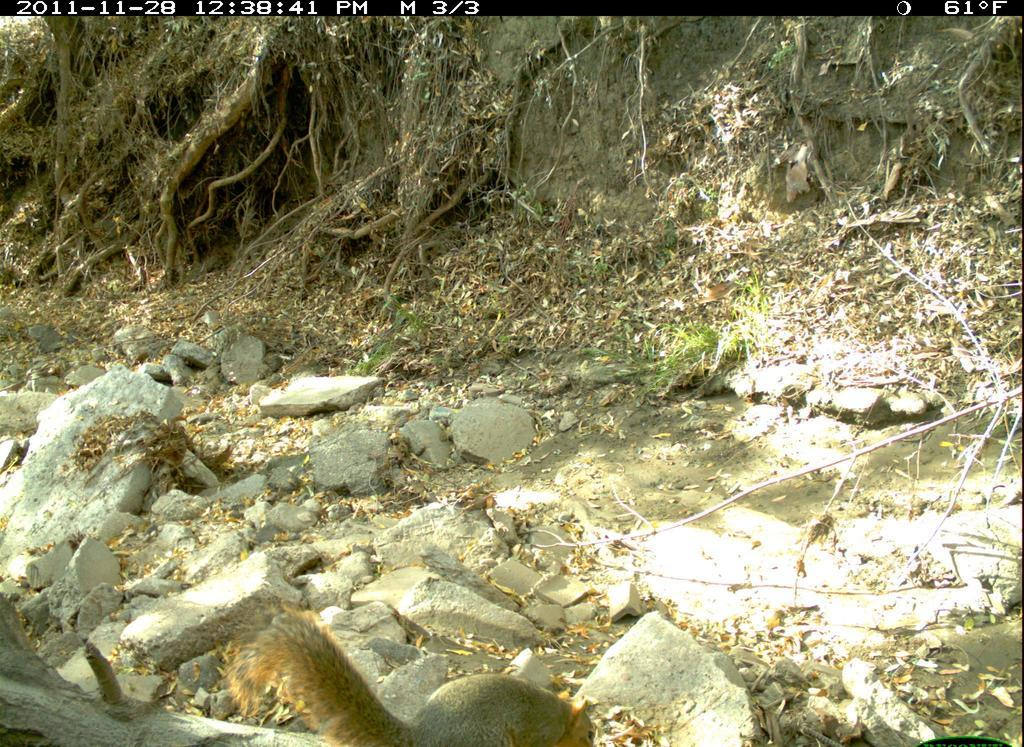squirrel: (227, 587, 621, 747)
